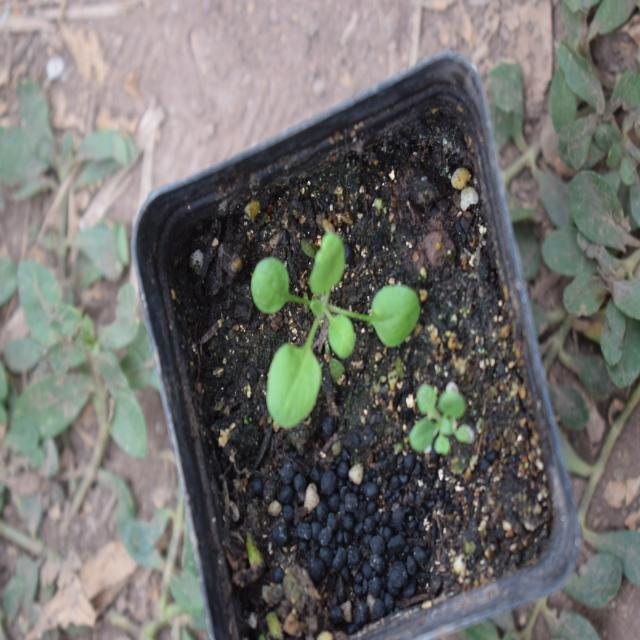Shepherd_Purse: (248, 225, 413, 424)
